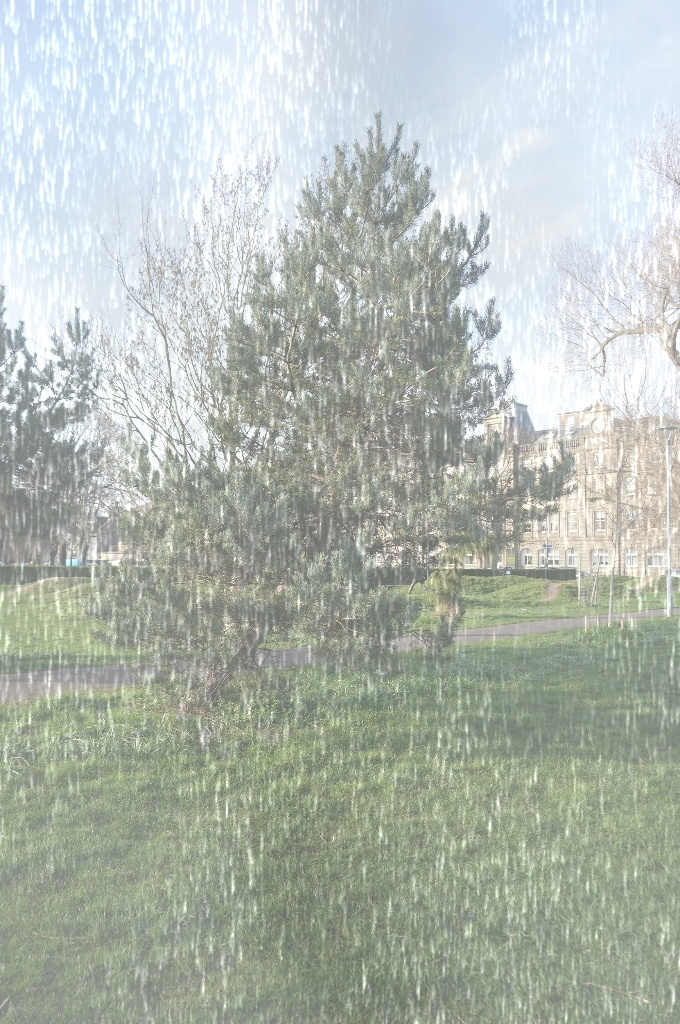Tree: (68, 90, 572, 760), (531, 84, 680, 577), (0, 247, 107, 569)
